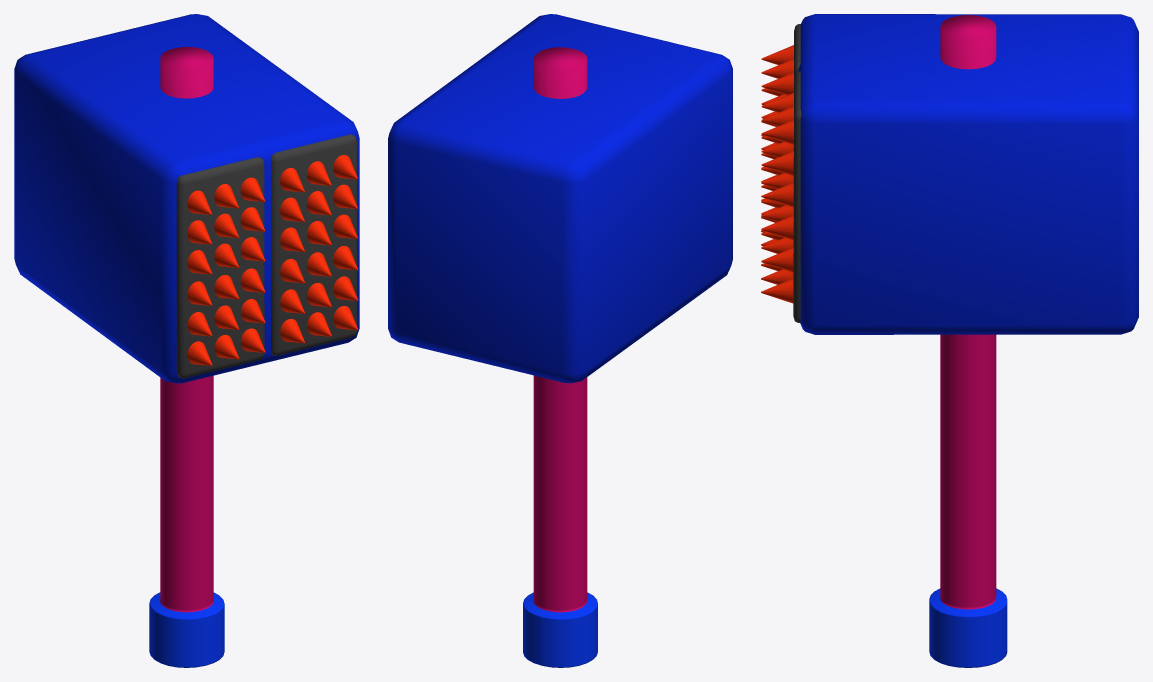
Rendered from hammer.fbx.
3 views of the same model, side by side, from view 1: azimuth 30°, elevation 25°; view 2: azimuth 150°, elevation 25°; view 3: azimuth 270°, elevation 25° (orthographic). The views are drawn at different scales.
Parts seen in each view (by area): view 1: Куб; view 2: Куб; view 3: Куб.
Boxes of the visible parts, x1=… form: Куб: x1=14, y1=14, x2=359, y2=667; Куб: x1=388, y1=14, x2=732, y2=667; Куб: x1=761, y1=14, x2=1138, y2=667.
Size of the model in its own units: 378 by 1091 by 598.
